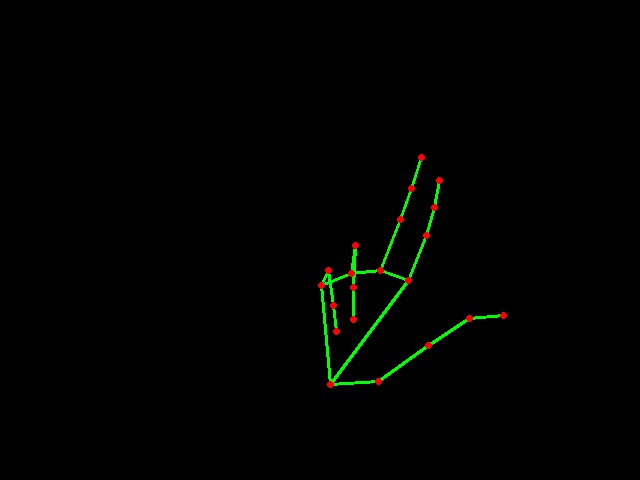forward: (312, 134, 512, 394)
